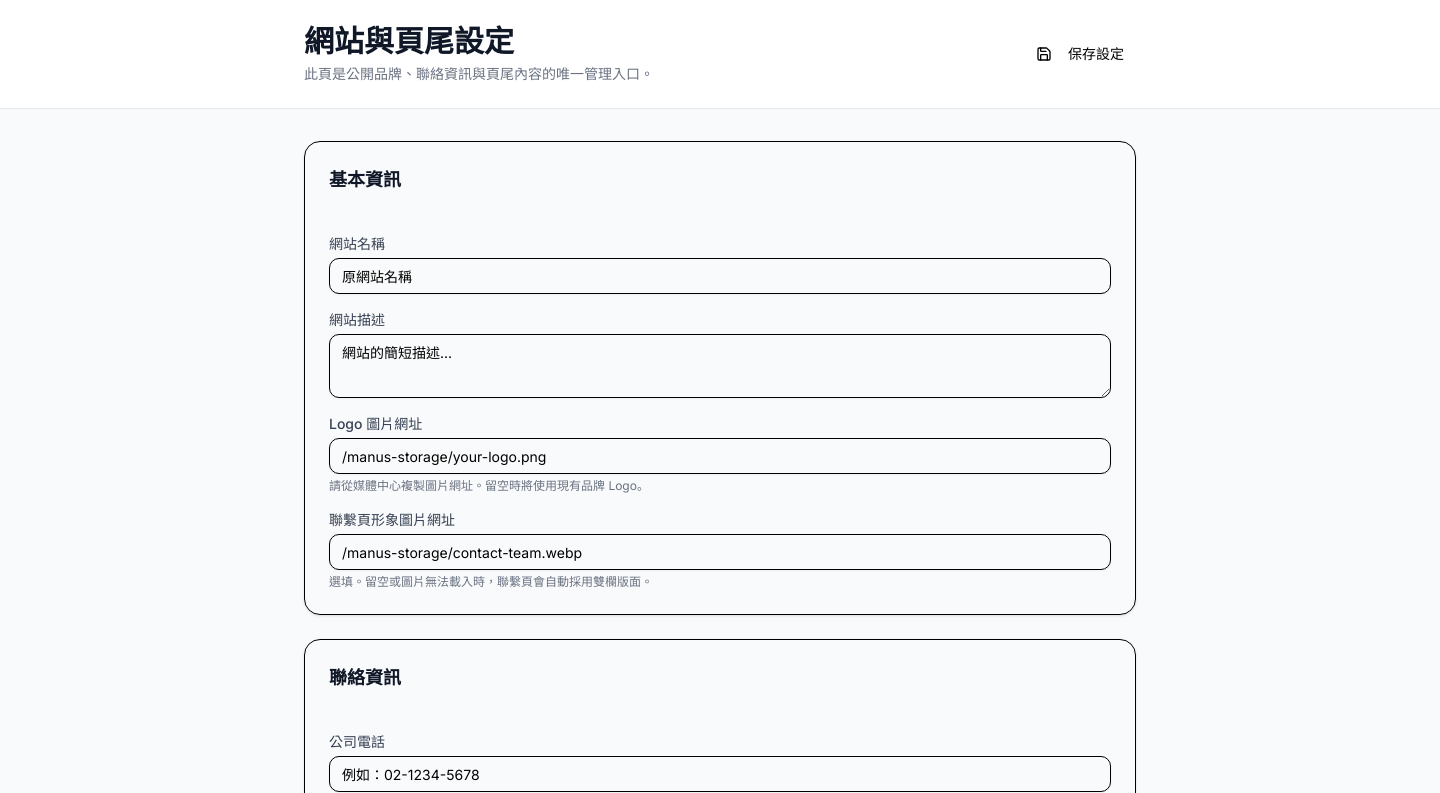
Test: CMSSettings 批次儲存回饋 › 儲存失敗時顯示錯誤並保留使用者輸入
Replace the text in the field with placeholder "潔特務清潔" with "新名稱" at (720, 276), box [329,258,1111,294]
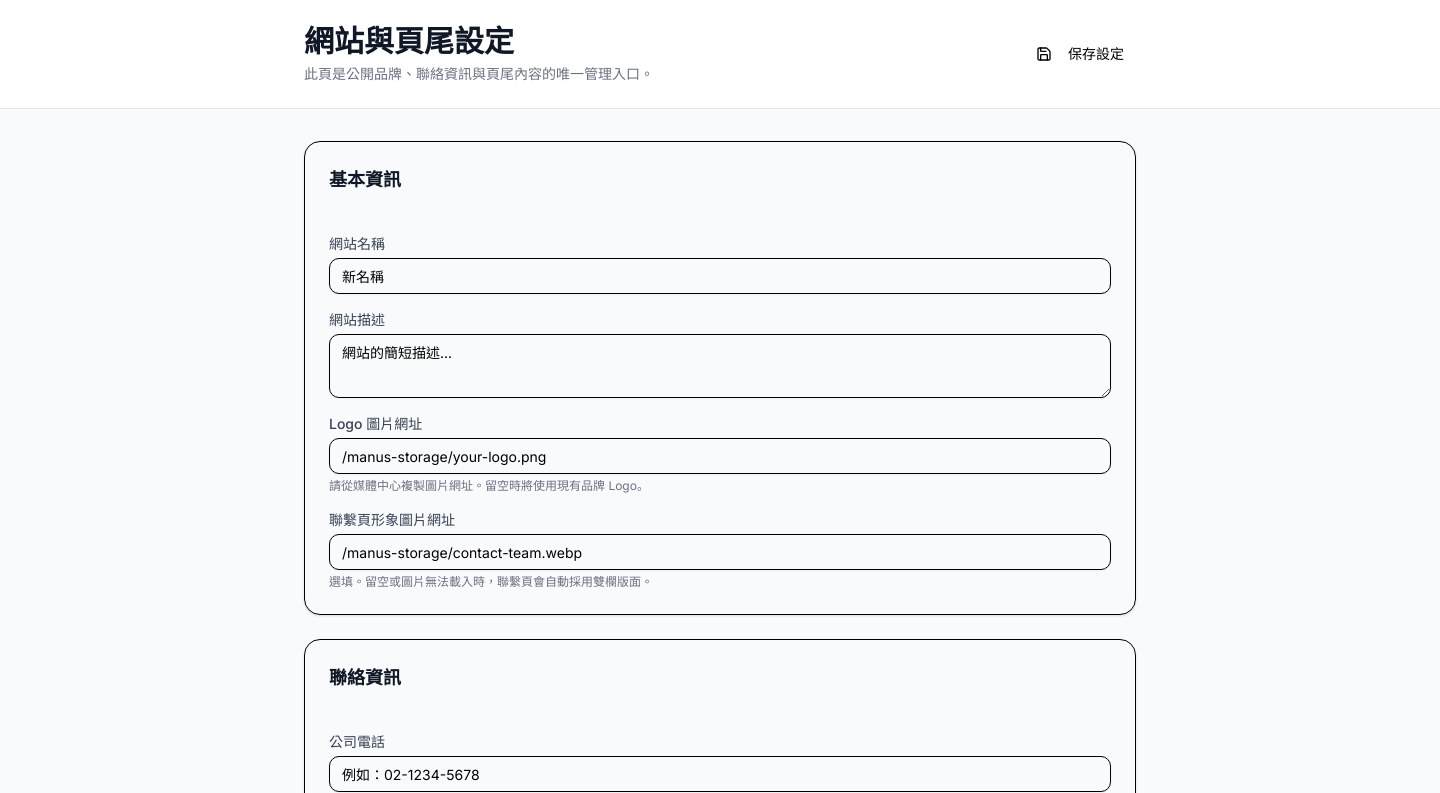
Click the button "保存設定".
click(1080, 54)  # box [1024,36,1136,72]
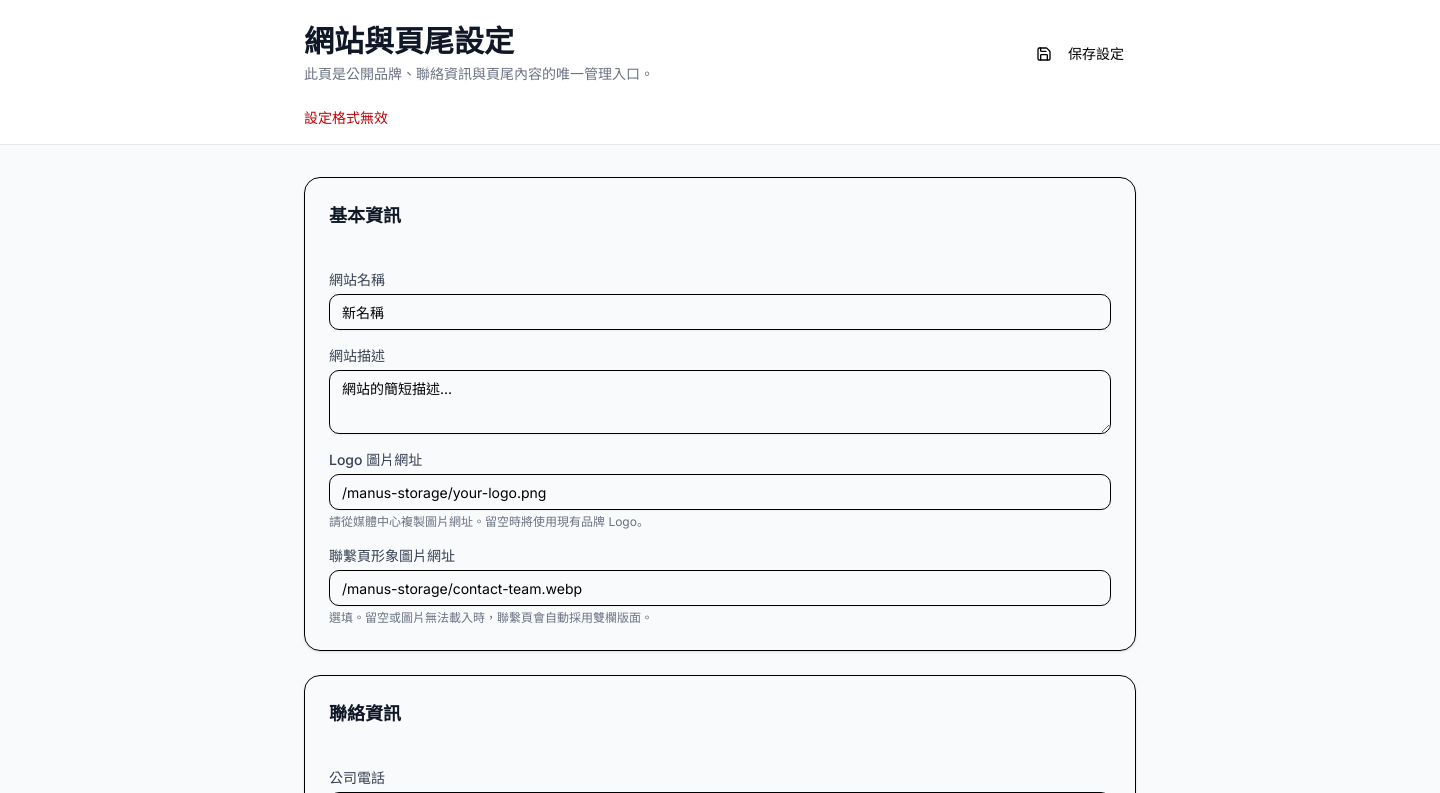
expect the message reads "設定格式無效": met, box [304,109,388,126]
